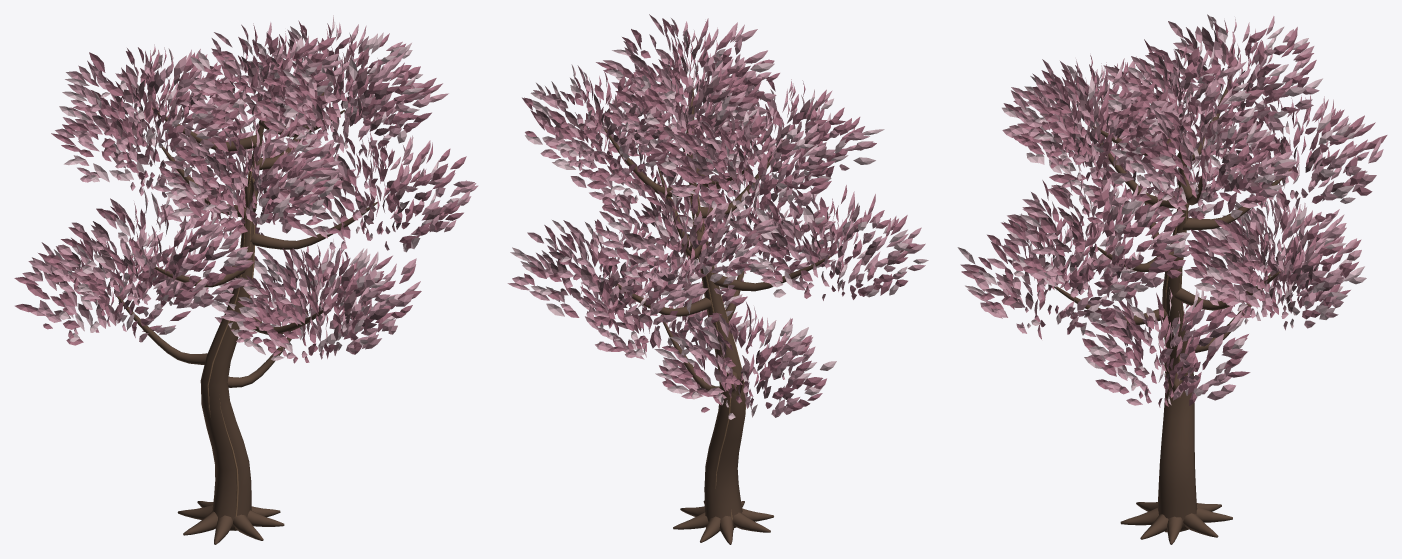
The model's file is fairy_tree.glb.
The picture shows the model from 3 angles, left to right: view 1: azimuth 30°, elevation 25°; view 2: azimuth 150°, elevation 25°; view 3: azimuth 270°, elevation 25°; orthographic projection. The views are drawn at different scales.
Parts seen in each view (by area): view 1: fairy_tree; view 2: fairy_tree; view 3: fairy_tree.
Part boxes in pixels (x1=…): fairy_tree: x1=14, y1=15, x2=478, y2=544; fairy_tree: x1=507, y1=14, x2=928, y2=544; fairy_tree: x1=957, y1=14, x2=1387, y2=544.
Bounding box in the file's own units: 5.5 × 6.54 × 5.15.
3 materials, 3 textured.
